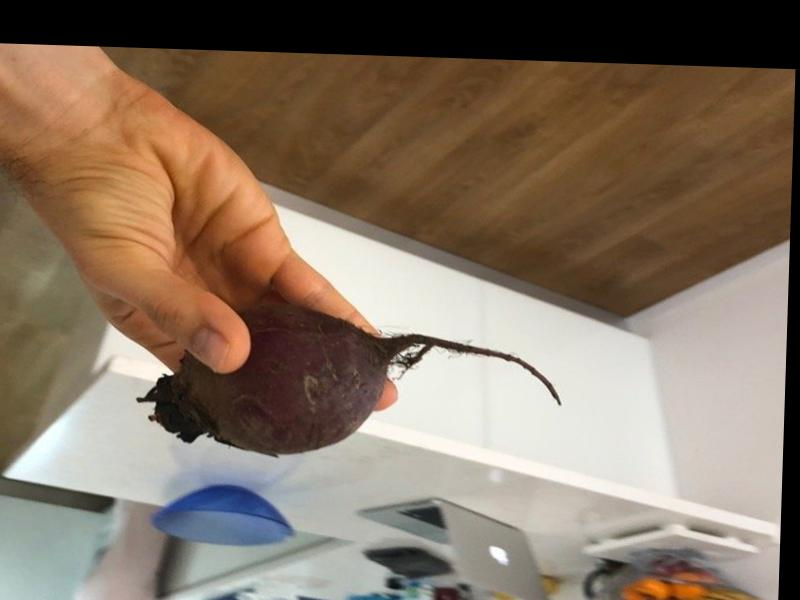Beet: (139, 303, 564, 463)
